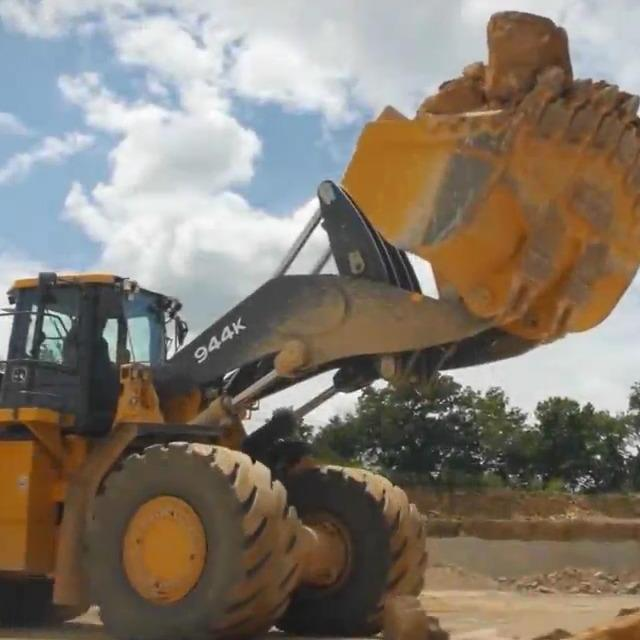Person: (67, 314, 118, 401)
wheel loader: (0, 60, 640, 640)
